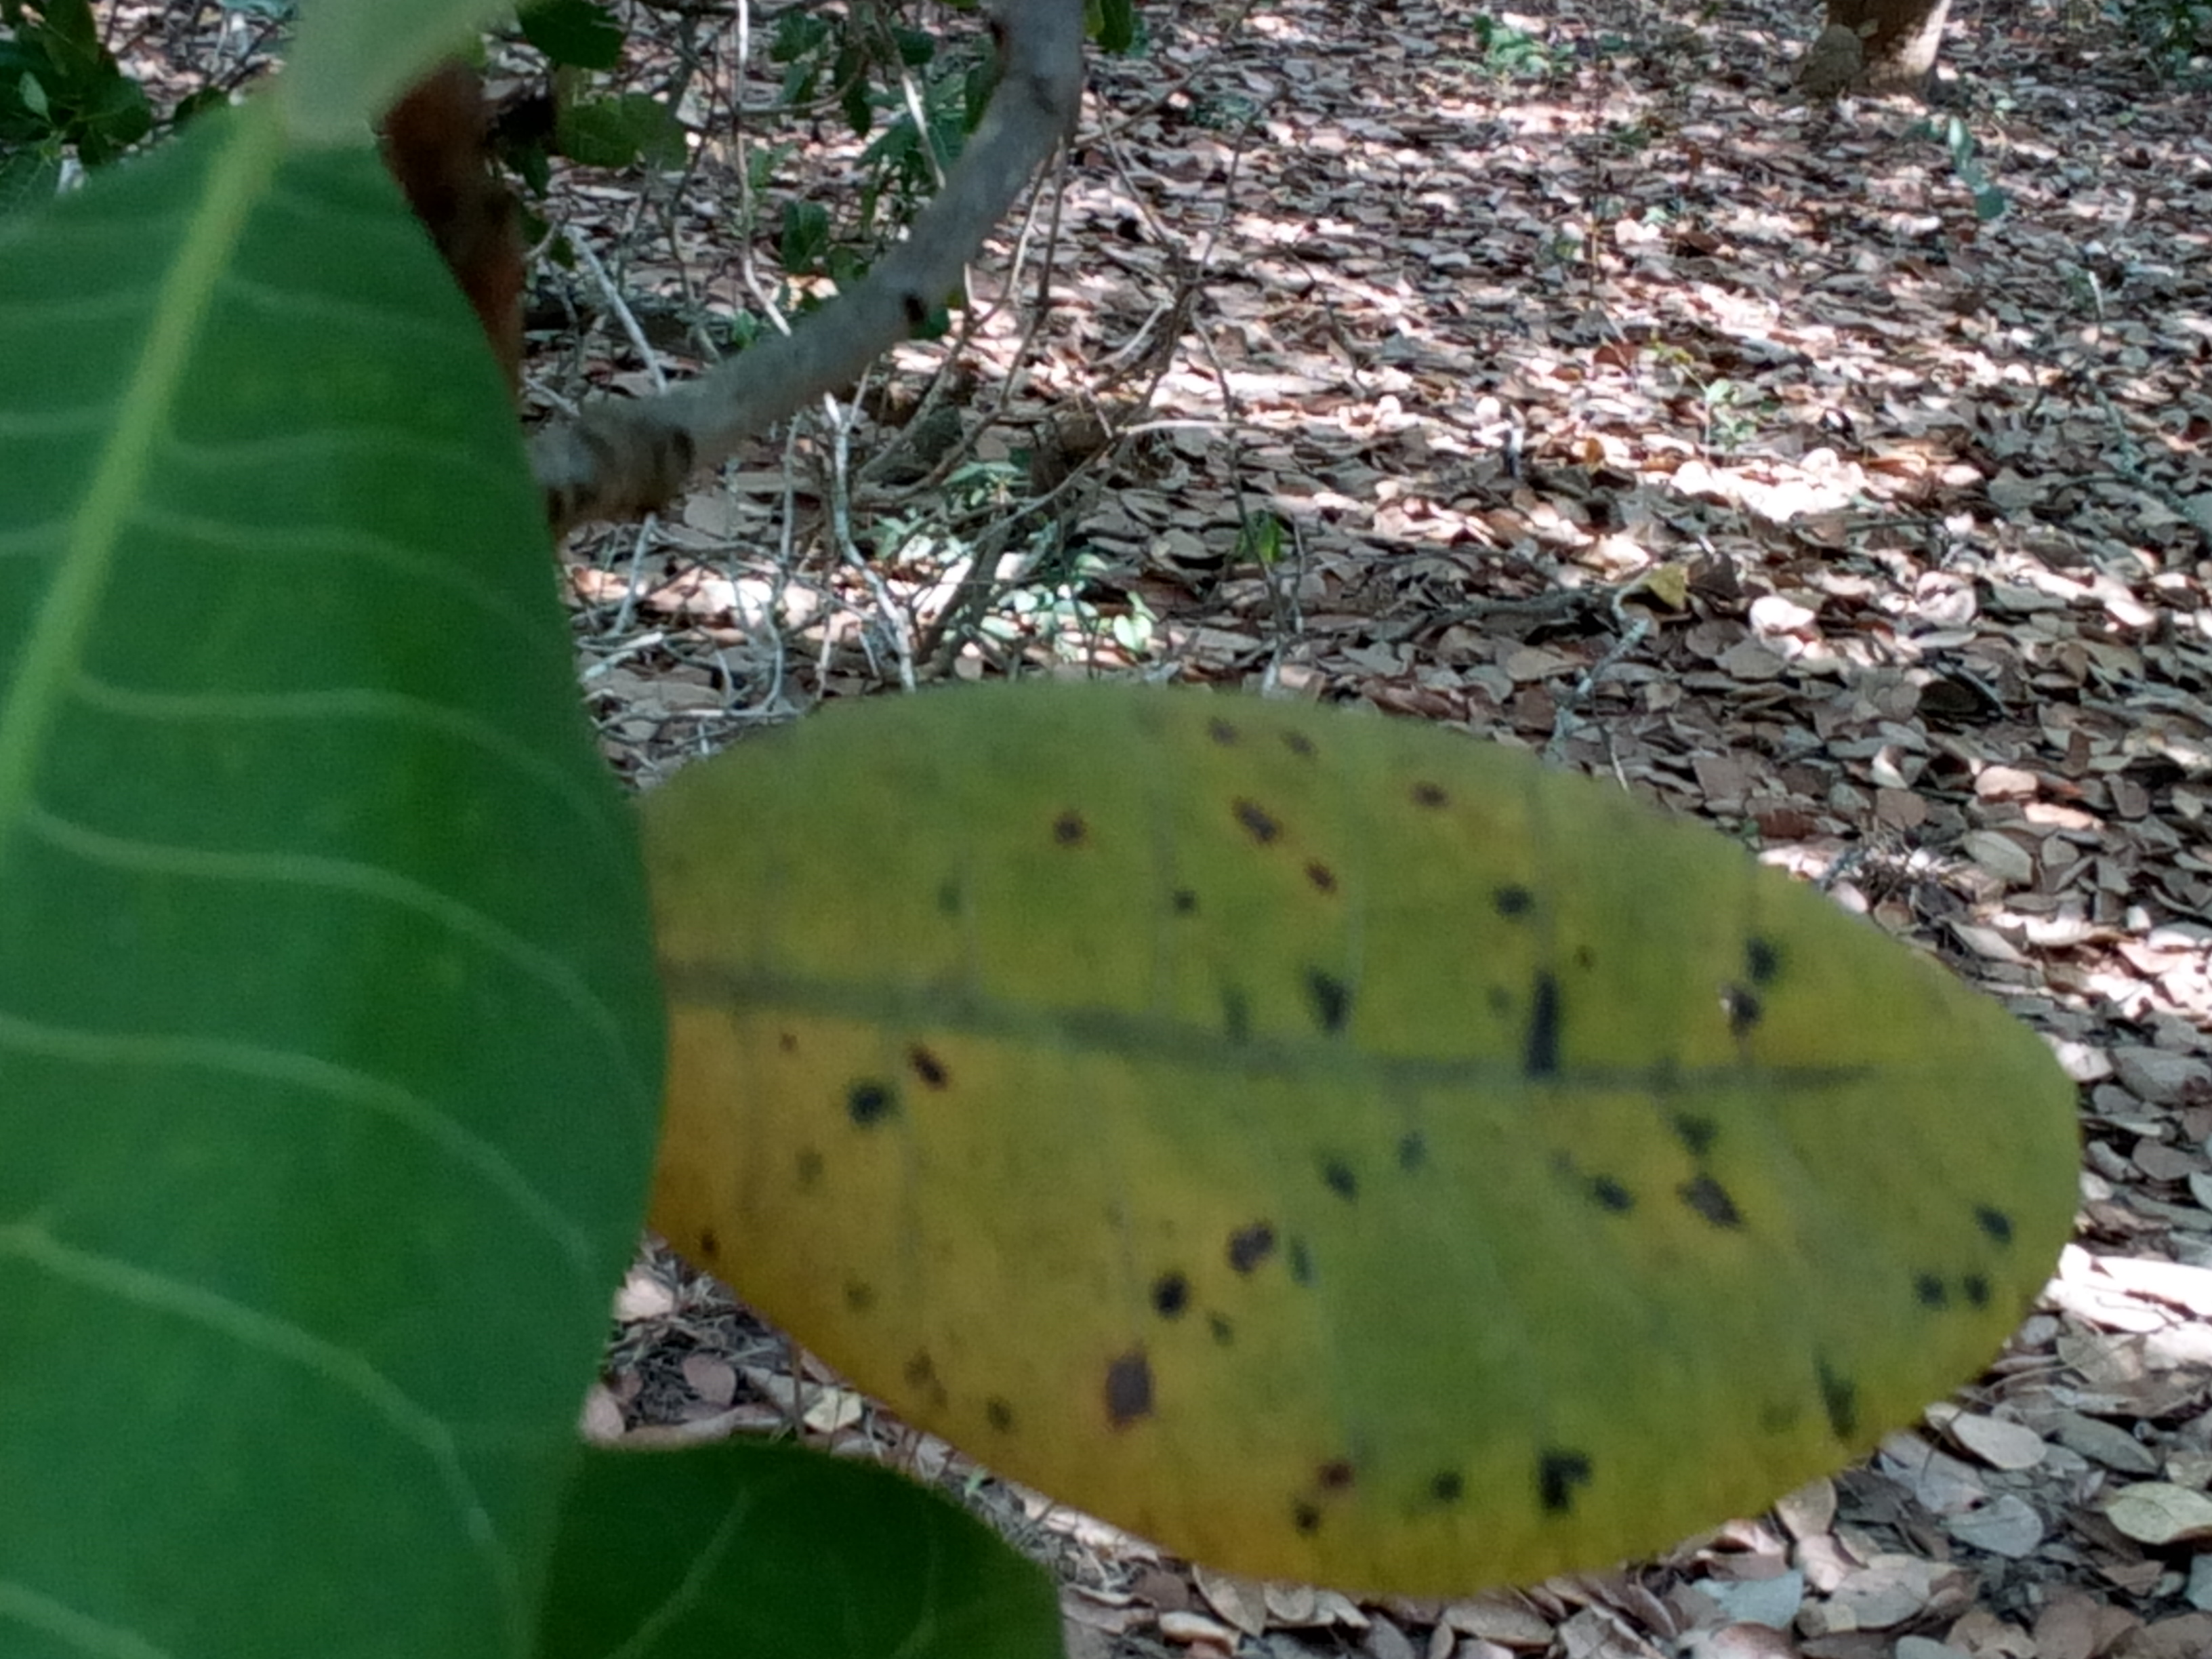Anthracnose: (636, 671, 2087, 1605)
